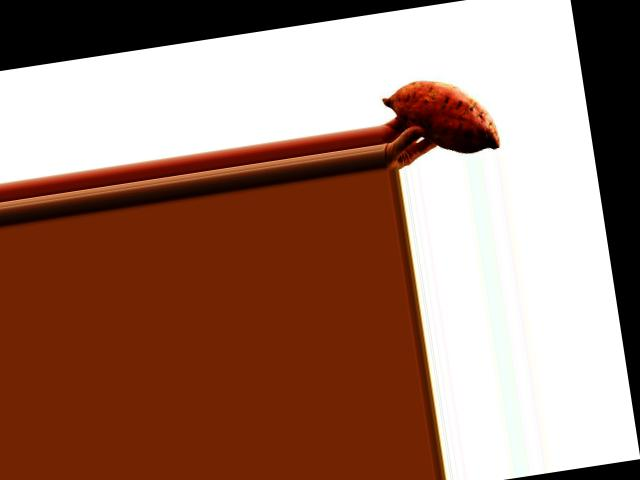sweet_potato: (383, 63, 503, 167)
